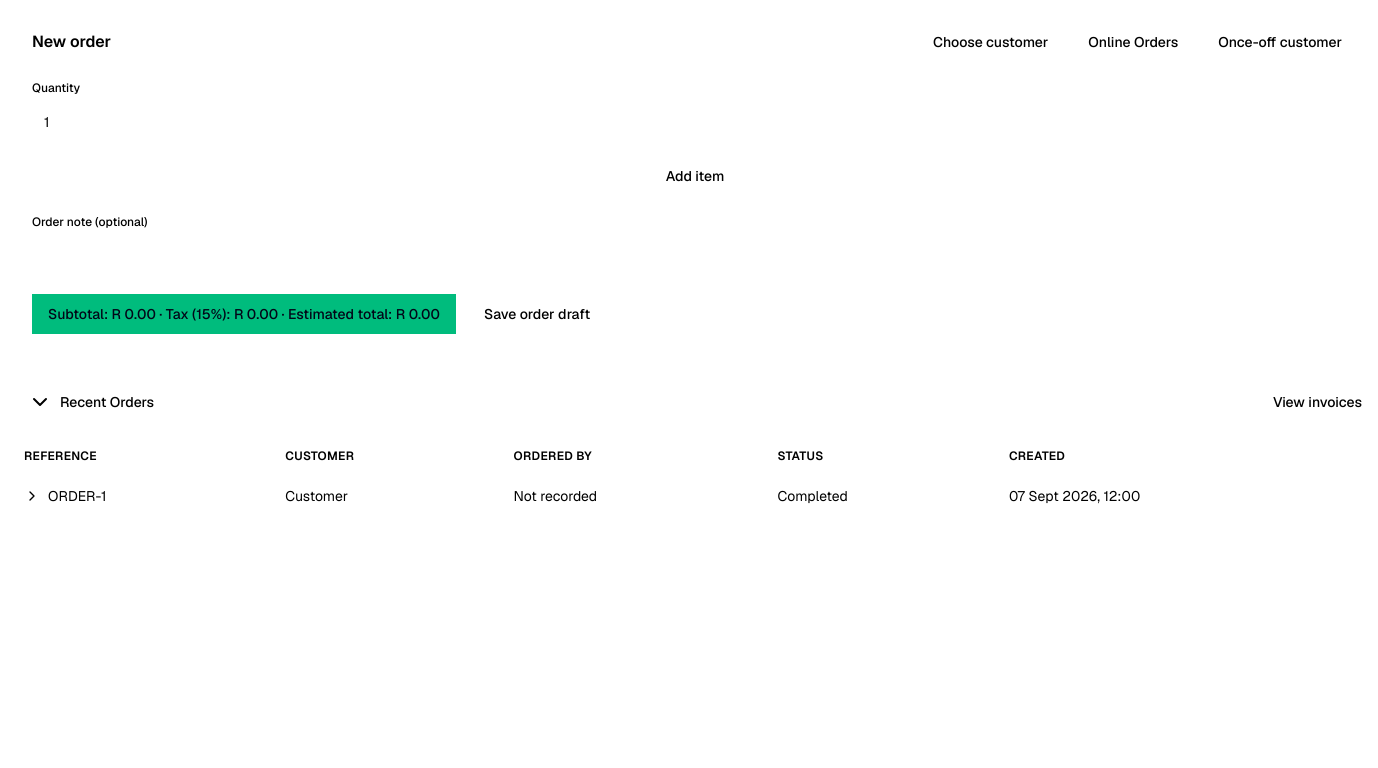
it: expands details directly below the clicked order and collapses on another click
This screenshot has width=1378, height=768.
Expected: the element "Order summary" is not shown
Step 1. Click the button "ORDER-1" → (65, 496), box x1=24 y1=486 x2=106 y2=506
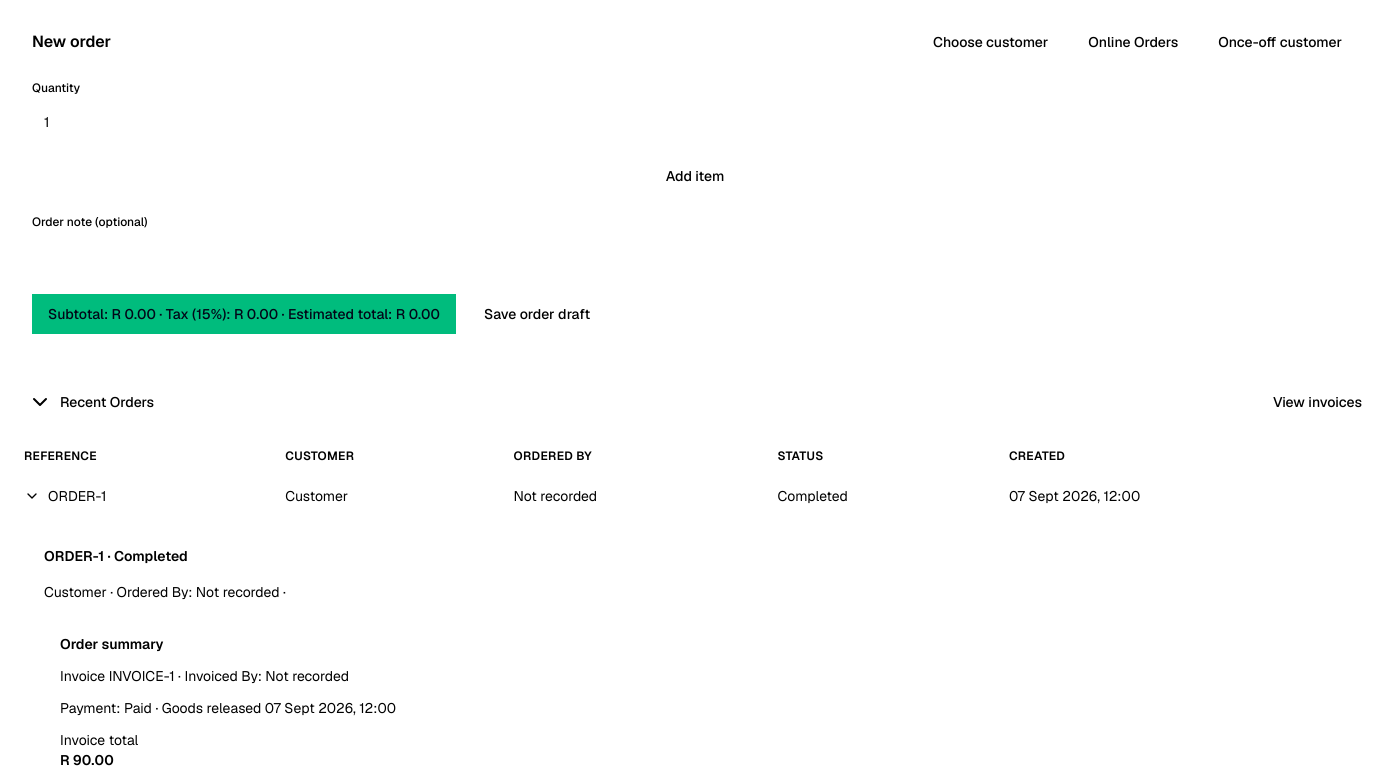
Expected: the button "ORDER-1" is expanded
Step 2. Click the button "ORDER-1" → (65, 496), box x1=24 y1=486 x2=106 y2=506
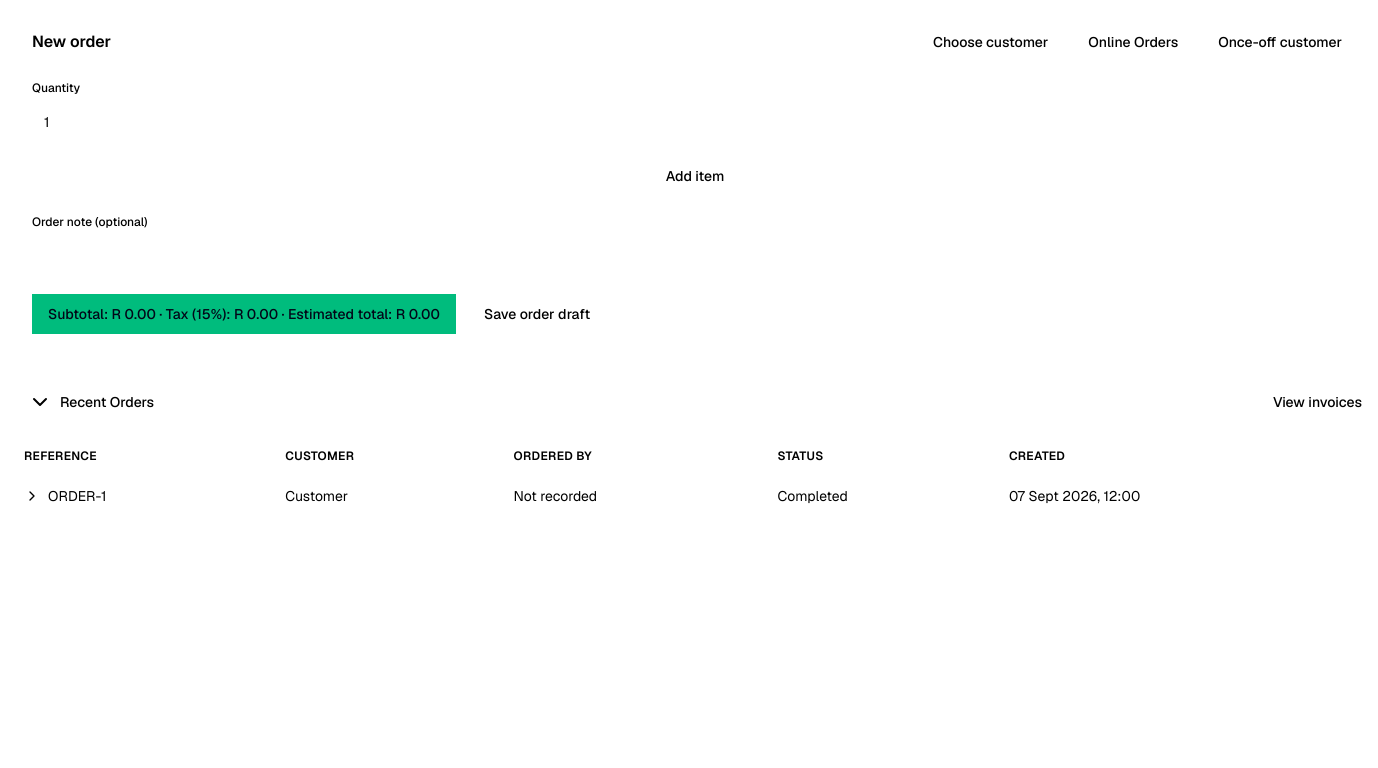
Expected: the heading "Order summary" is gone
